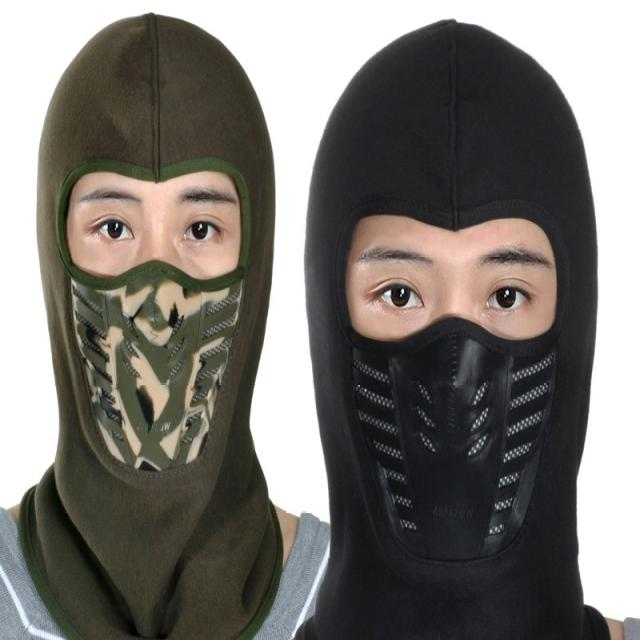mask: (352, 185, 557, 522), (71, 138, 241, 464)
